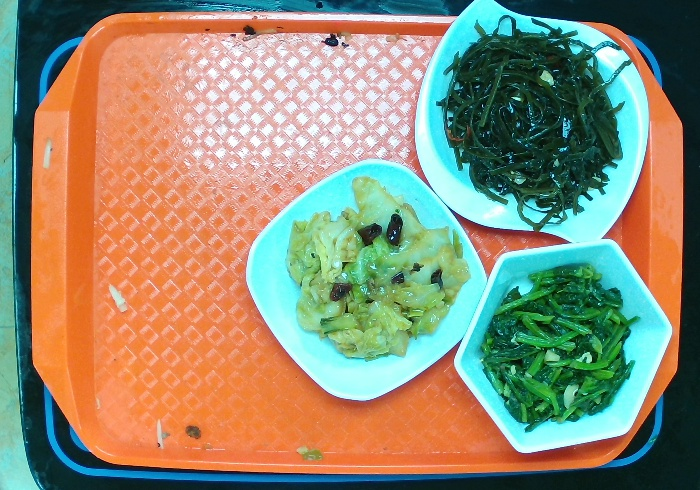RJxy-Liu_Jiao_Wan: (456, 236, 676, 462)
RJxy-Shuang_Jiao_Pan: (406, 1, 657, 246)
RJxy-Si_Fang_Wan: (238, 154, 492, 410)
